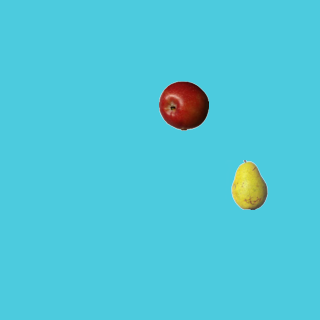Apple Braeburn: (158, 80, 208, 130)
Pear Monster: (224, 159, 274, 209)
